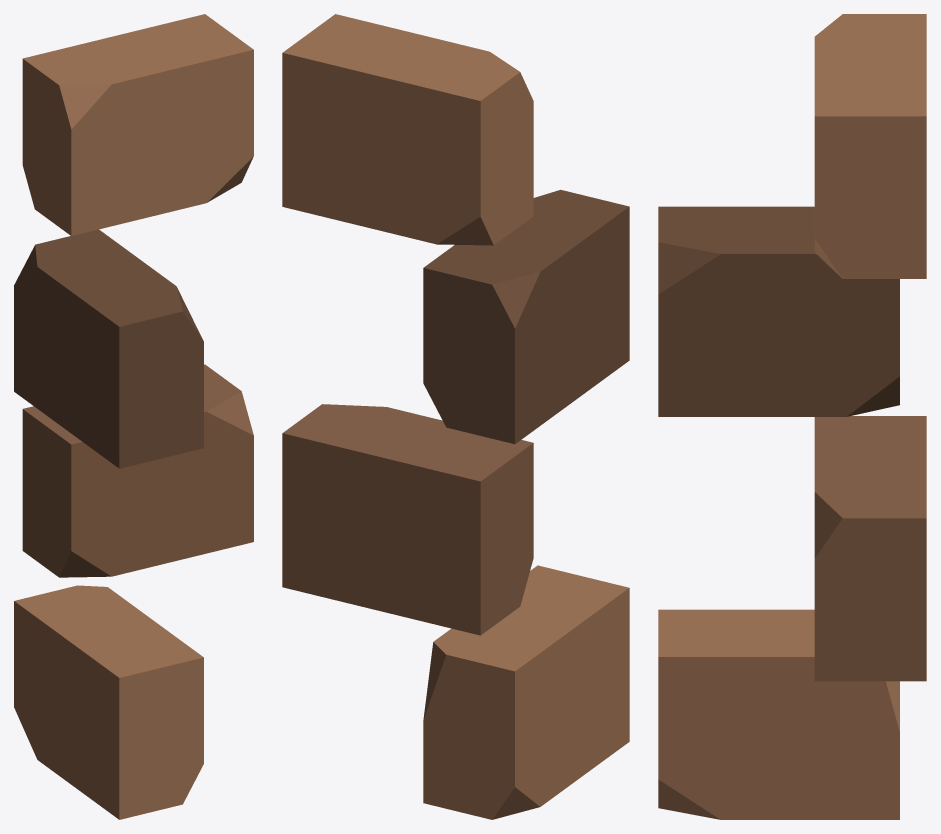
The model's file is SM_Bld_Wall_Brick_Corner_Half_02.fbx.
3 views of the same model, side by side, from view 1: azimuth 30°, elevation 25°; view 2: azimuth 150°, elevation 25°; view 3: azimuth 270°, elevation 25° (orthographic). The views are drawn at different scales.
Visible parts, largest first — view 1: SM_Bld_Wall_Brick_Corner_Half_02; view 2: SM_Bld_Wall_Brick_Corner_Half_02; view 3: SM_Bld_Wall_Brick_Corner_Half_02.
Boxes of the visible parts, x1=… form: SM_Bld_Wall_Brick_Corner_Half_02: x1=14, y1=14, x2=253, y2=819; SM_Bld_Wall_Brick_Corner_Half_02: x1=282, y1=14, x2=629, y2=819; SM_Bld_Wall_Brick_Corner_Half_02: x1=658, y1=14, x2=926, y2=819.
Size of the model in its own units: 45.32 by 143 by 45.32.
